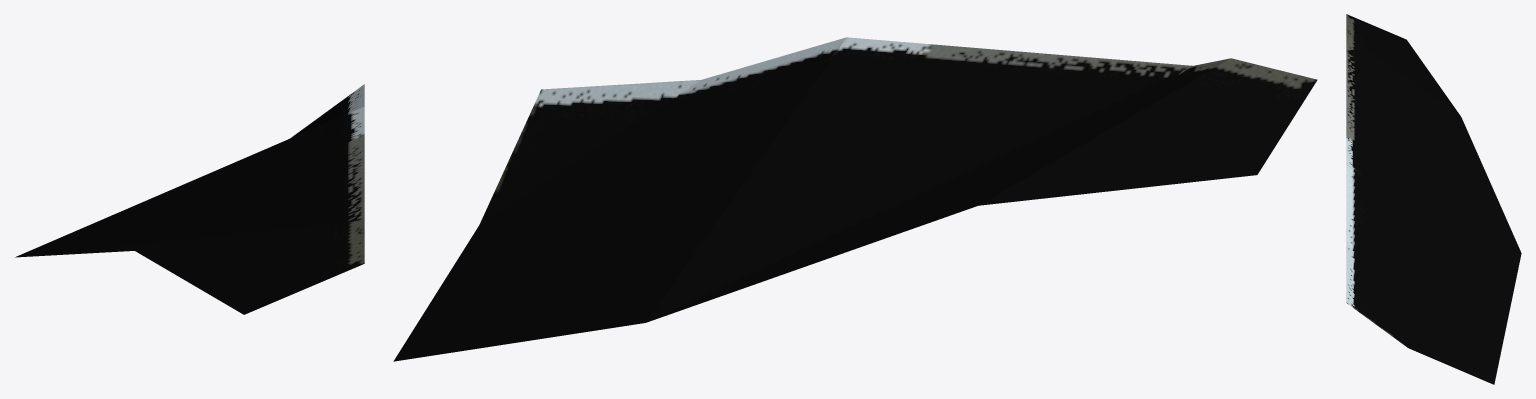
The picture shows the model from 3 angles, left to right: view 1: azimuth 90°, elevation 25°; view 2: azimuth 150°, elevation 25°; view 3: azimuth 270°, elevation 25°; orthographic projection. The views are drawn at different scales.
Size of the model in its own units: 3.35 by 1.5 by 1.31.
1 material, 1 textured.
